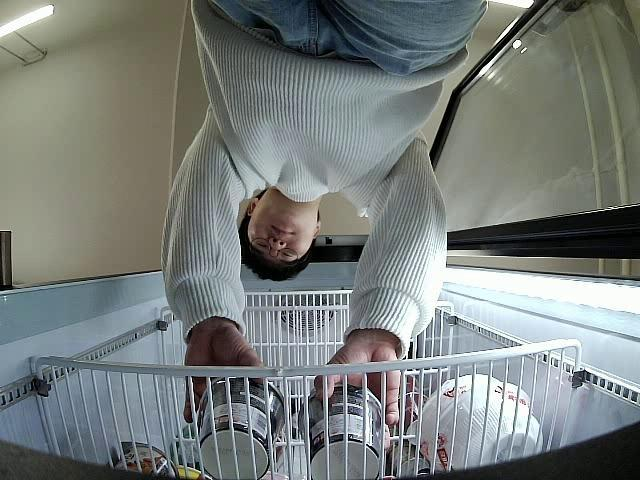08_buldak_S: (194, 375, 288, 480), (294, 383, 387, 480)
